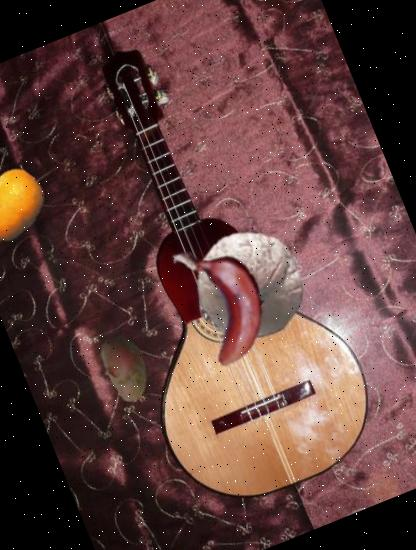Banana: (144, 223, 306, 384)
Kumquats: (0, 157, 58, 251)
Potato: (80, 322, 170, 414)
Walnut: (177, 212, 323, 358)
